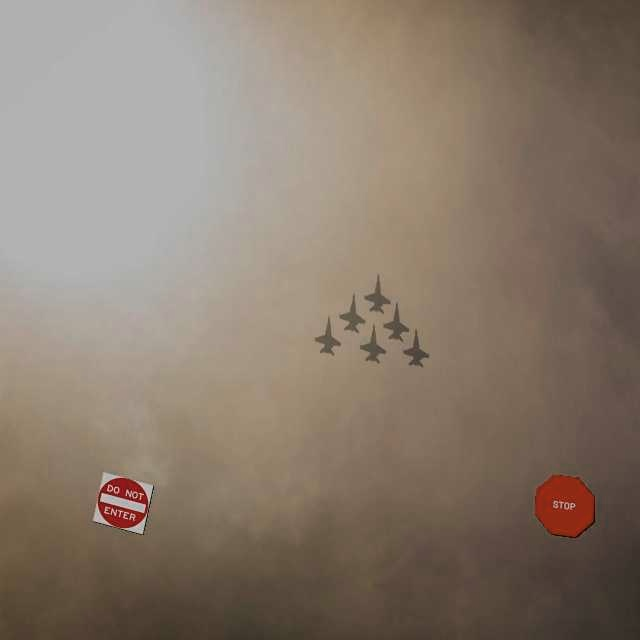DO_NOT_ENTER: (92, 471, 154, 535)
STOP: (534, 474, 595, 538)
